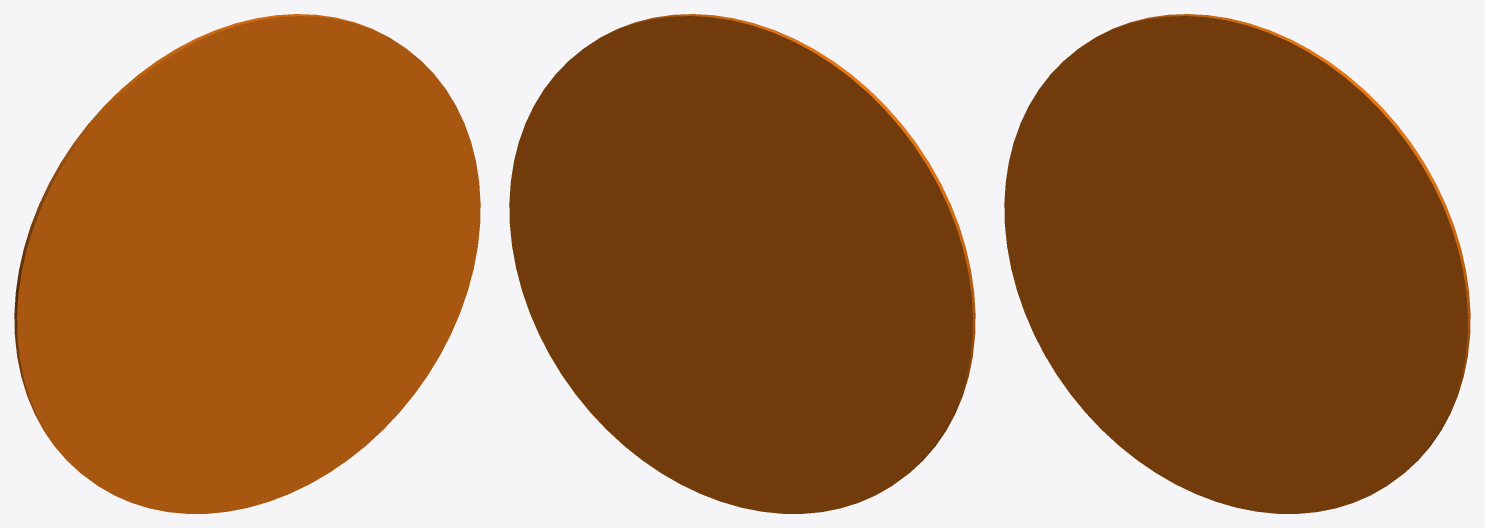
File: Fire_Disk.obj
The picture shows the model from 3 angles, left to right: view 1: azimuth 30°, elevation 25°; view 2: azimuth 150°, elevation 25°; view 3: azimuth 330°, elevation 25°; orthographic projection.
Parts seen in each view (by area): view 1: Fire_Disk; view 2: Fire_Disk; view 3: Fire_Disk.
Boxes of the visible parts, bbox=[...] form: Fire_Disk: bbox=[14, 14, 480, 513]; Fire_Disk: bbox=[509, 14, 975, 513]; Fire_Disk: bbox=[1004, 14, 1470, 513].
Bounding box in the file's own units: 0.9998 × 0.9995 × 0.01.
